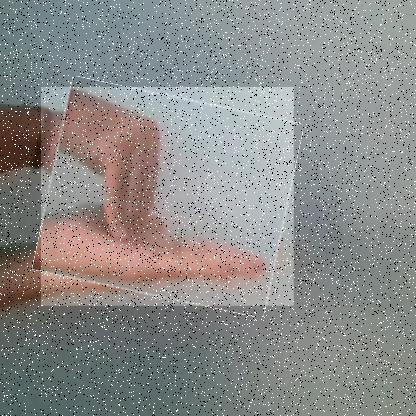Z: (41, 87, 295, 307)
